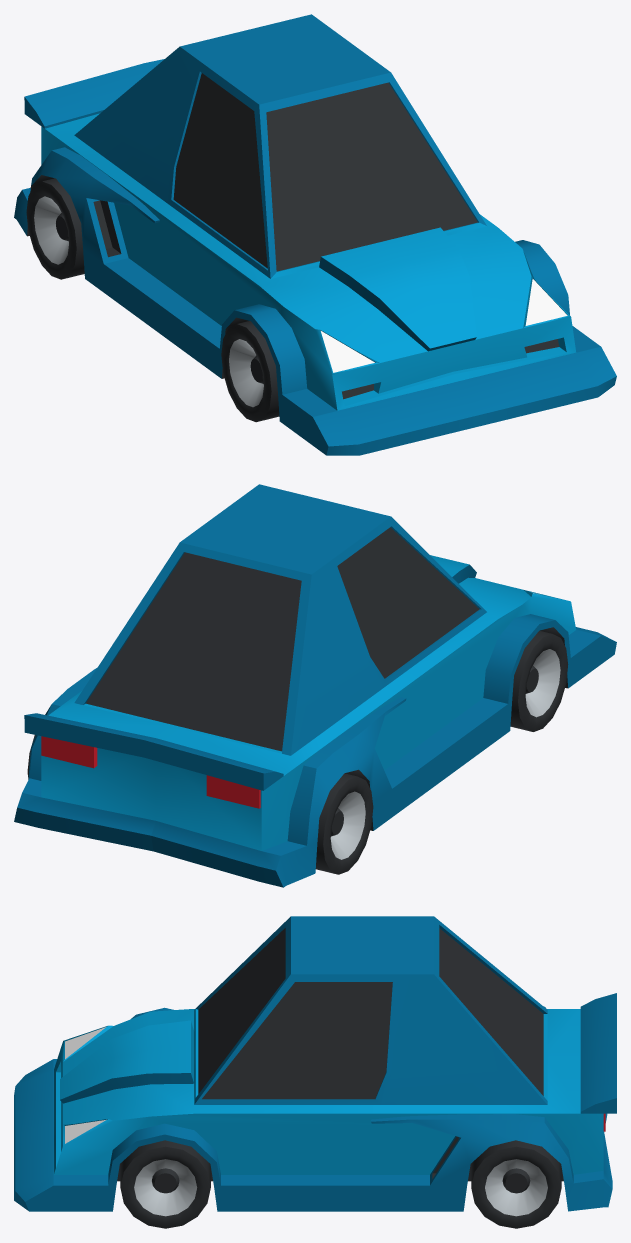
File: Car_9.fbx
3 renders of one model, top to bottom at view 1: azimuth 30°, elevation 25°; view 2: azimuth 150°, elevation 25°; view 3: azimuth 270°, elevation 25°, orthographic. The views are drawn at different scales.
Parts seen in each view (by area): view 1: Car9, Car9Wheel4, Car9Wheel2; view 2: Car9, Car9Wheel2, Car9Wheel4; view 3: Car9, Car9Wheel3, Car9Wheel1.
Part boxes in pixels (x1=…): Car9: x1=14, y1=14, x2=616, y2=455; Car9Wheel4: x1=26, y1=178, x2=84, y2=279; Car9Wheel2: x1=221, y1=321, x2=279, y2=422; Car9: x1=14, y1=484, x2=616, y2=887; Car9Wheel2: x1=510, y1=630, x2=568, y2=731; Car9Wheel4: x1=315, y1=773, x2=373, y2=874; Car9: x1=14, y1=916, x2=616, y2=1211; Car9Wheel3: x1=471, y1=1140, x2=561, y2=1228; Car9Wheel1: x1=120, y1=1140, x2=210, y2=1228.
Bounding box in the file's own units: 299 × 232 × 581.
1 material, 1 textured.
